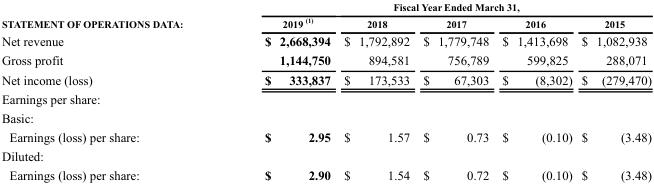table: (0, 0, 650, 182)
table column: (0, 0, 223, 182), (223, 0, 336, 182), (494, 0, 576, 182), (336, 0, 415, 182), (415, 0, 494, 182), (576, 0, 650, 182)
table column header: (0, 0, 650, 31)
table projected row header: (0, 88, 650, 108), (0, 108, 650, 127), (0, 146, 650, 165)
table row: (0, 88, 650, 108), (0, 31, 650, 50), (0, 50, 650, 69), (0, 69, 650, 88), (0, 108, 650, 127), (0, 127, 650, 146), (0, 146, 650, 165), (0, 14, 650, 31), (0, 165, 650, 182), (0, 0, 650, 14)
table spanning cell: (0, 0, 223, 31), (223, 0, 650, 14)
